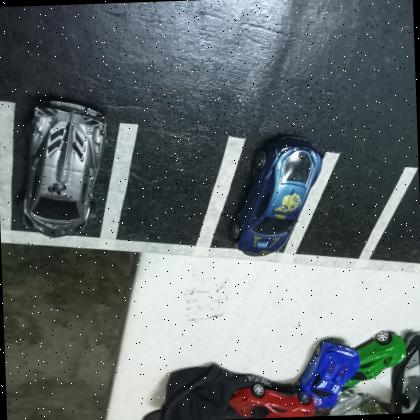Car: (17, 98, 113, 241), (227, 132, 327, 259)
